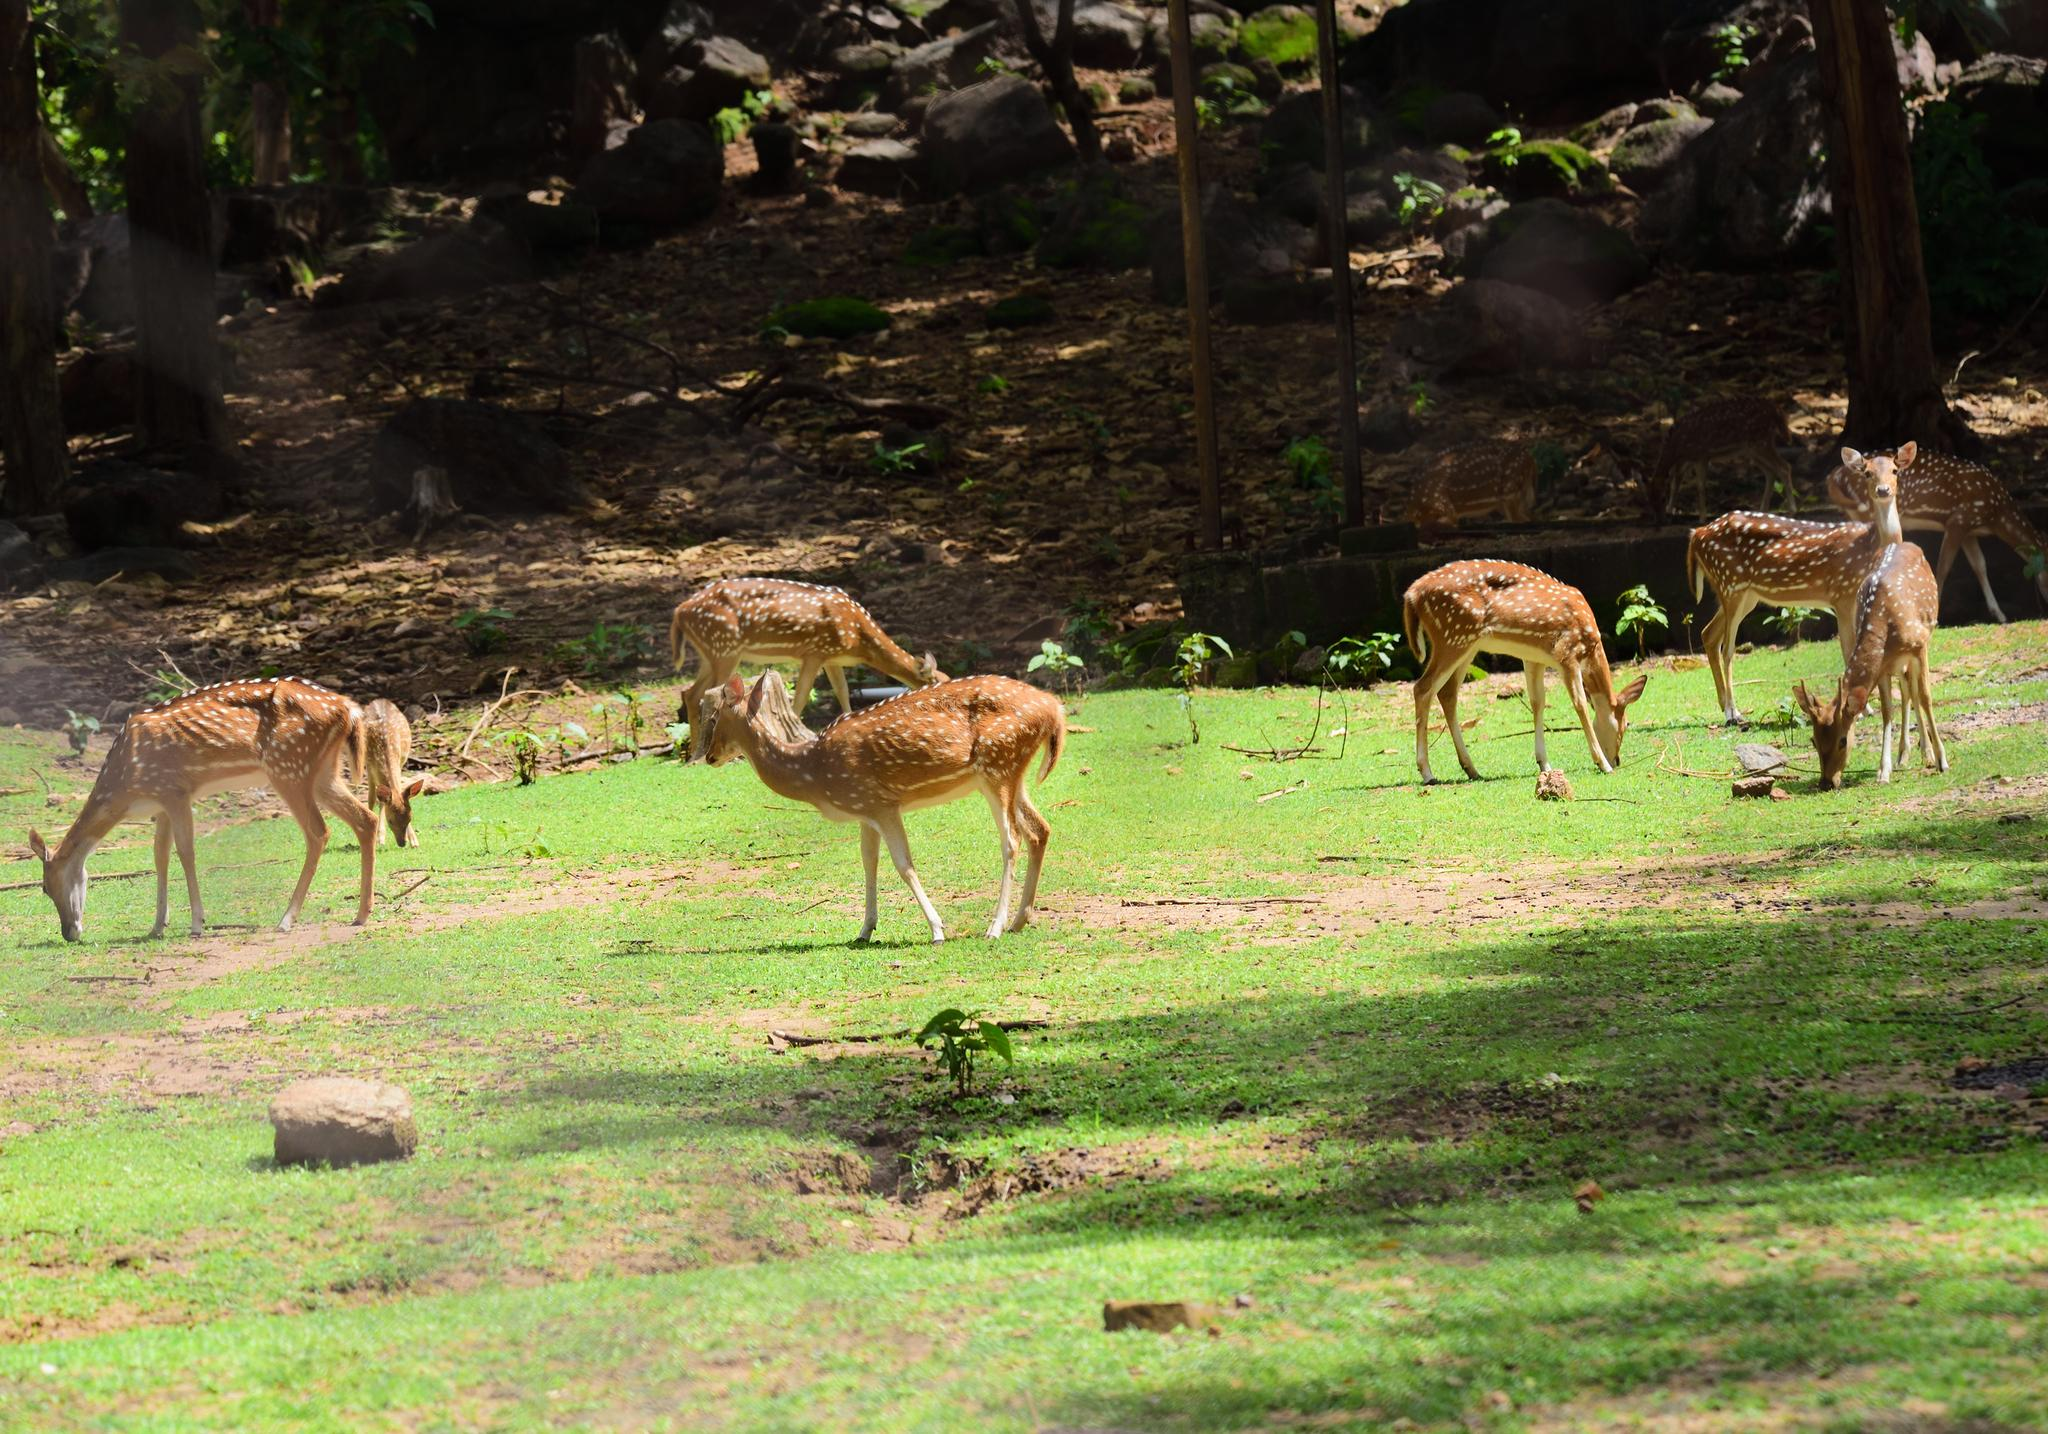Deer: (700, 674, 1066, 942), (31, 677, 380, 939), (1687, 444, 1916, 721), (1404, 561, 1643, 785), (671, 578, 948, 757), (1793, 542, 1948, 789), (1899, 452, 2046, 621), (361, 698, 444, 845)
